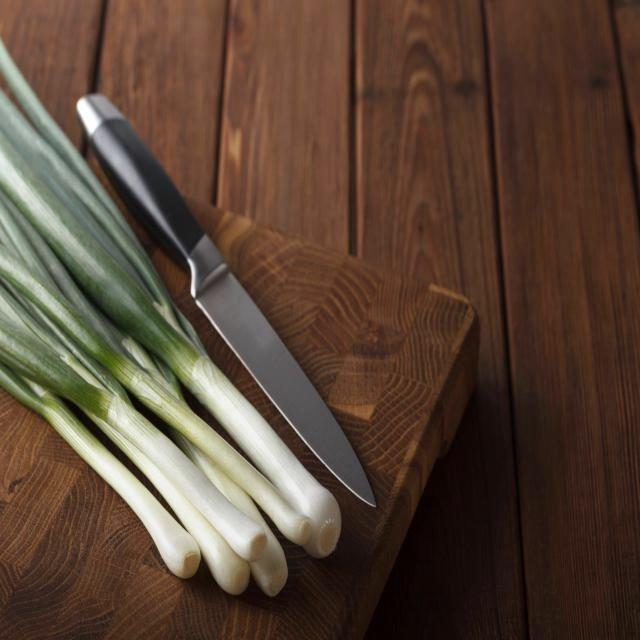green_onion: (0, 42, 340, 596)
